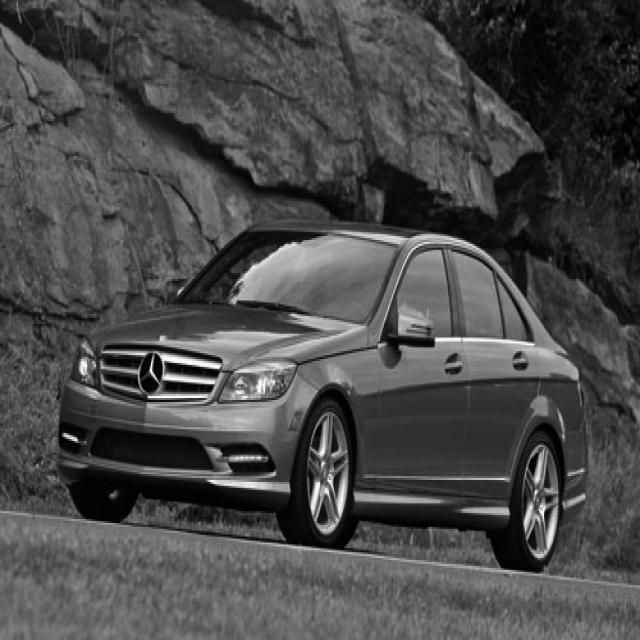car: (55, 216, 589, 570)
